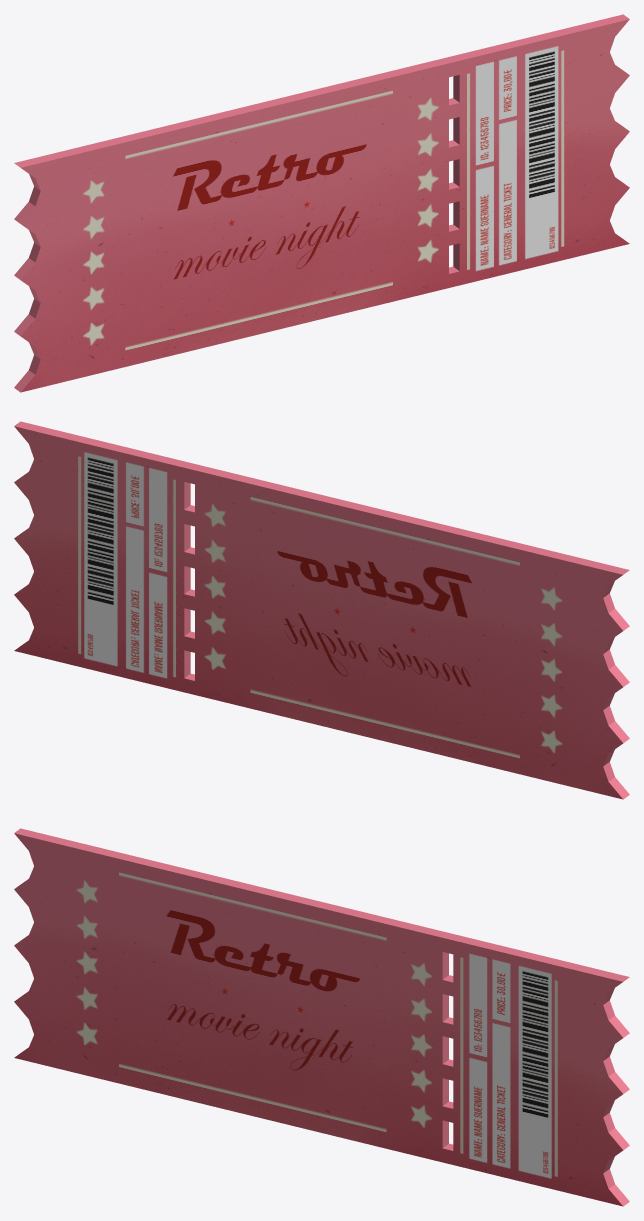
Rendered from ticket.fbx.
3 renders of one model, top to bottom at view 1: azimuth 30°, elevation 25°; view 2: azimuth 150°, elevation 25°; view 3: azimuth 330°, elevation 25°, orthographic.
Visible parts, largest first — view 1: biljett; view 2: biljett; view 3: biljett.
Boxes of the visible parts, left/top/right/bottom form: biljett: left=14, top=14, right=629, bottom=392; biljett: left=14, top=421, right=629, bottom=799; biljett: left=14, top=828, right=629, bottom=1206.
Bounding box in the file's own units: 214 × 75.26 × 4.
